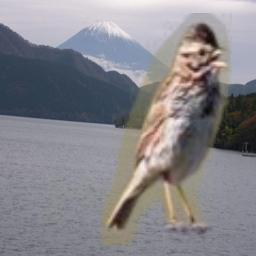Sparrow: (102, 13, 232, 245)
